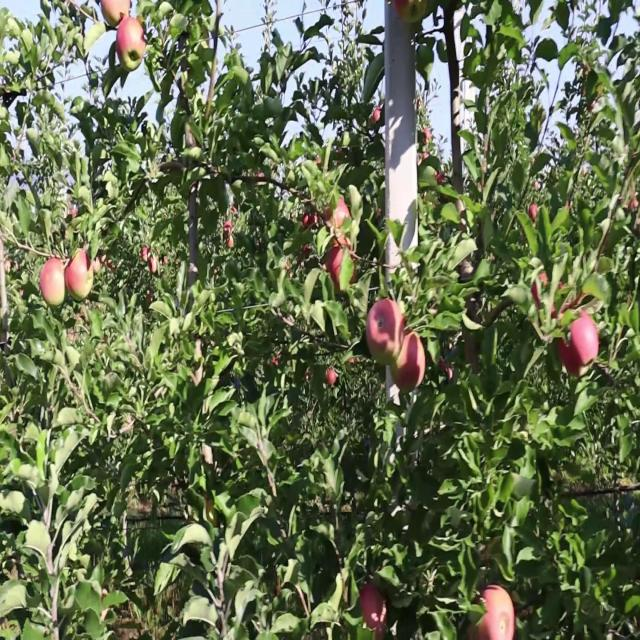apple: (558, 311, 599, 376), (468, 584, 515, 640), (366, 298, 404, 364), (390, 331, 425, 393), (566, 311, 599, 376), (116, 16, 145, 71), (359, 582, 386, 640), (65, 249, 94, 300), (40, 258, 65, 307), (621, 182, 640, 237), (558, 338, 585, 376), (326, 240, 344, 291), (100, 0, 130, 27), (324, 198, 350, 229), (392, 0, 424, 22), (531, 271, 549, 309), (558, 293, 582, 317), (301, 211, 320, 229), (325, 367, 338, 387), (560, 302, 571, 317), (551, 302, 558, 317), (350, 269, 356, 284), (559, 280, 564, 288), (551, 311, 555, 318)
